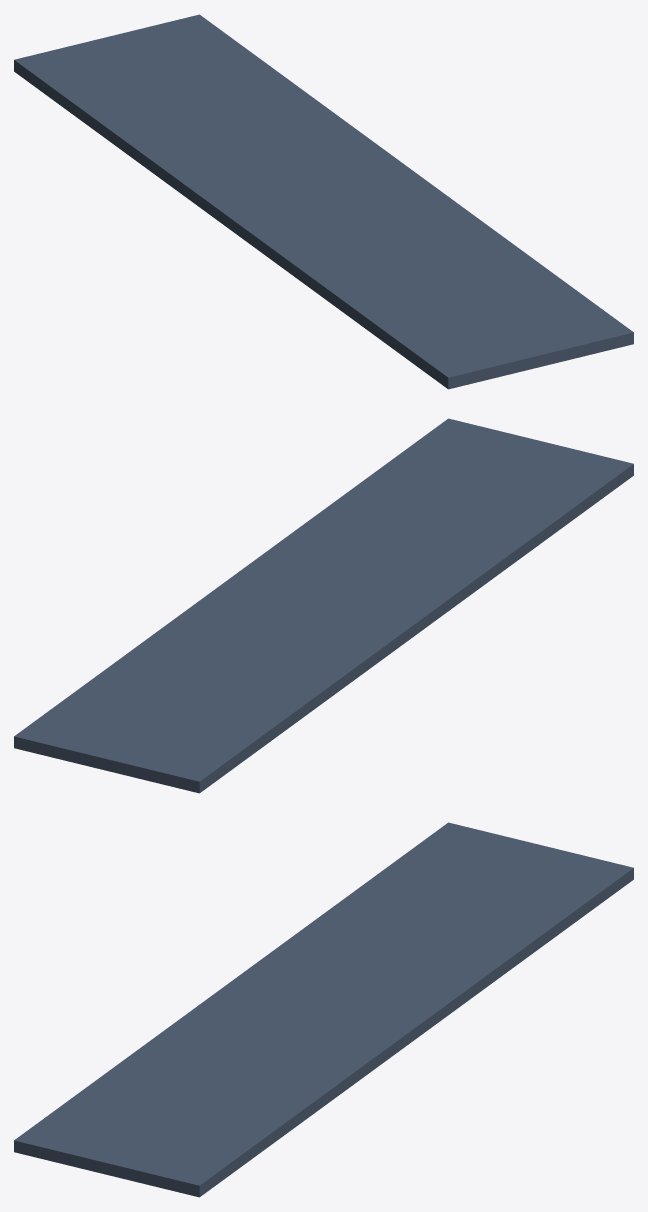
The model's file is floor_002_l_chamber_2_floor_03.obj.
The picture shows the model from 3 angles, top to bottom: view 1: azimuth 30°, elevation 25°; view 2: azimuth 150°, elevation 25°; view 3: azimuth 330°, elevation 25°; orthographic projection.
Parts seen in each view (by area): view 1: Floor_002_l_chamber_2_floor_03; view 2: Floor_002_l_chamber_2_floor_03; view 3: Floor_002_l_chamber_2_floor_03.
Part boxes in pixels (<box>): Floor_002_l_chamber_2_floor_03: <box>14,14,633,389</box>; Floor_002_l_chamber_2_floor_03: <box>14,418,633,793</box>; Floor_002_l_chamber_2_floor_03: <box>14,822,633,1197</box>.
Size of the model in its own units: 3.31 by 0.2 by 13.4.
